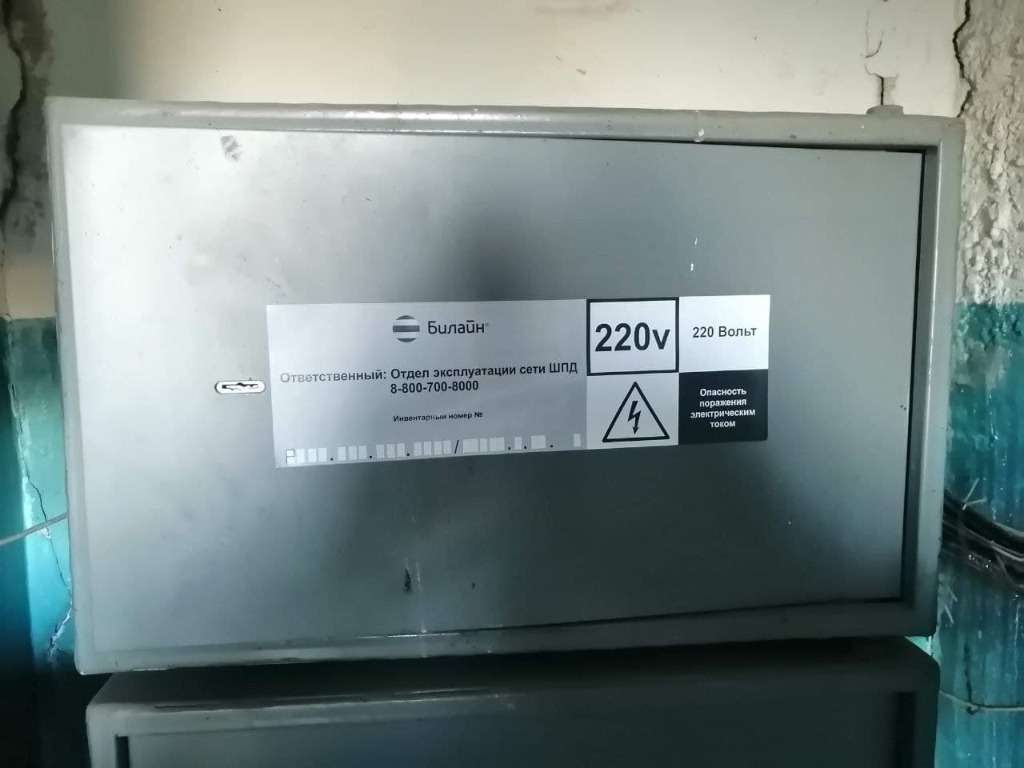e2-6u: (27, 82, 970, 683)
